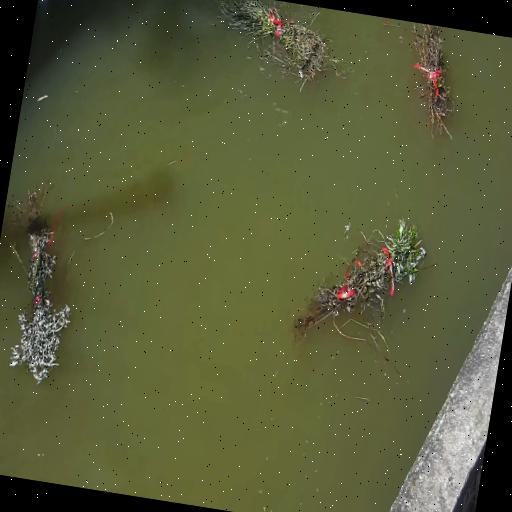twig: (0, 167, 113, 390), (290, 203, 434, 366), (203, 0, 344, 94), (394, 22, 468, 142)
